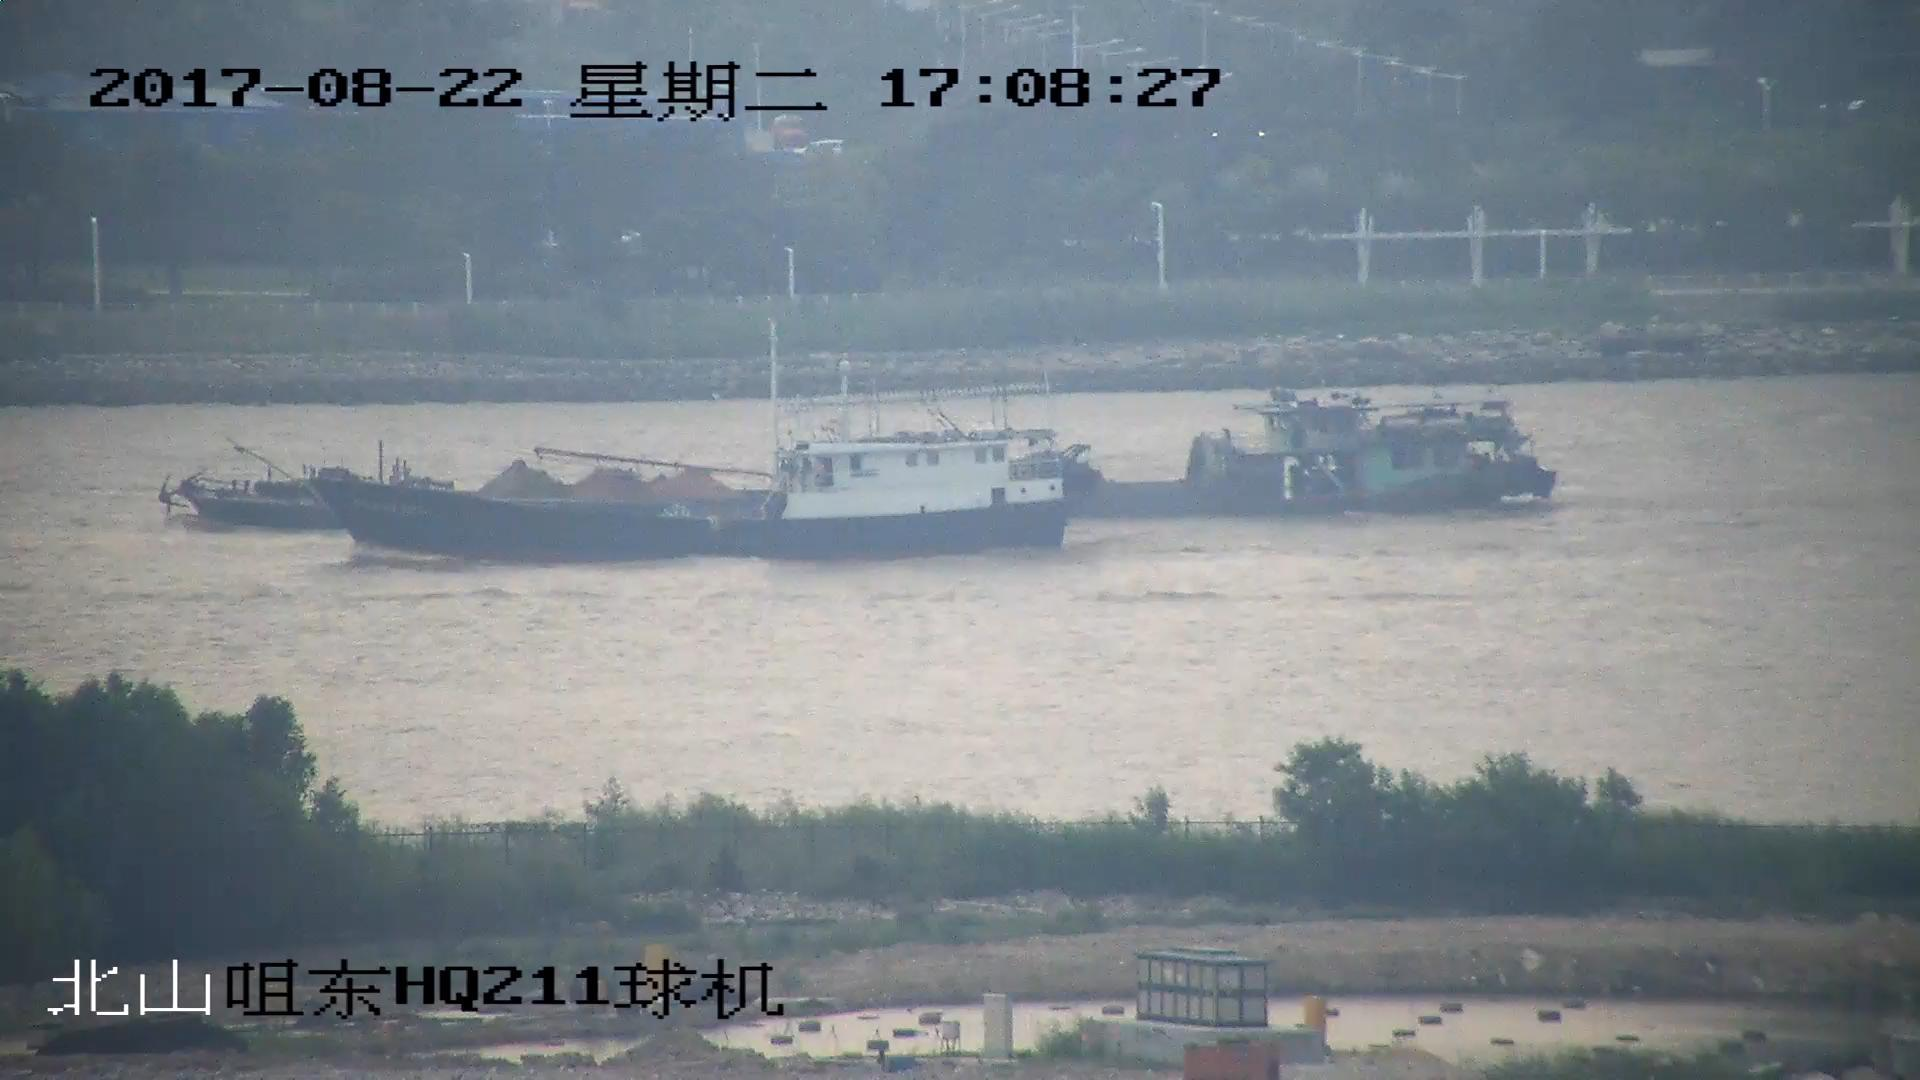Ship: (156, 398, 1553, 530), (313, 389, 1068, 562)
